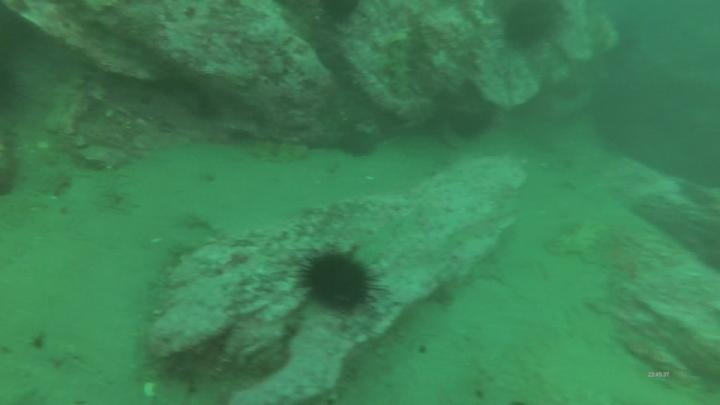echinus: (296, 244, 382, 321), (503, 1, 566, 51), (444, 106, 499, 144), (338, 126, 377, 160), (322, 1, 366, 28)
holothurian: (235, 135, 312, 169), (385, 39, 418, 105)
